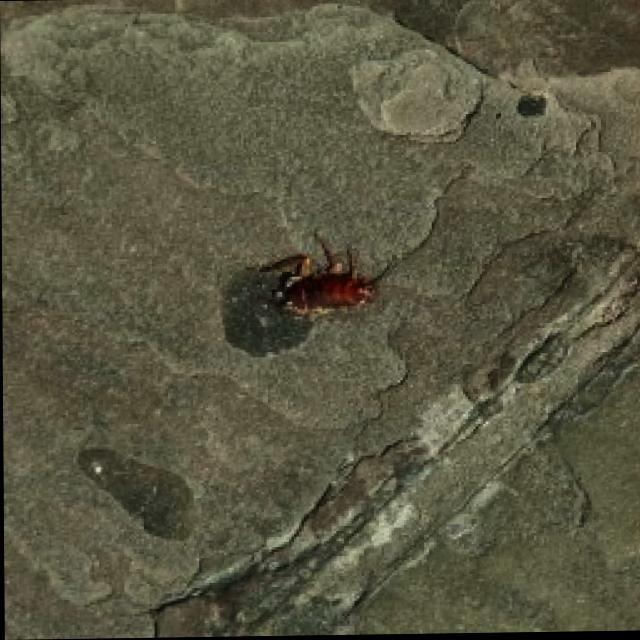cockroach: (248, 226, 389, 325)
